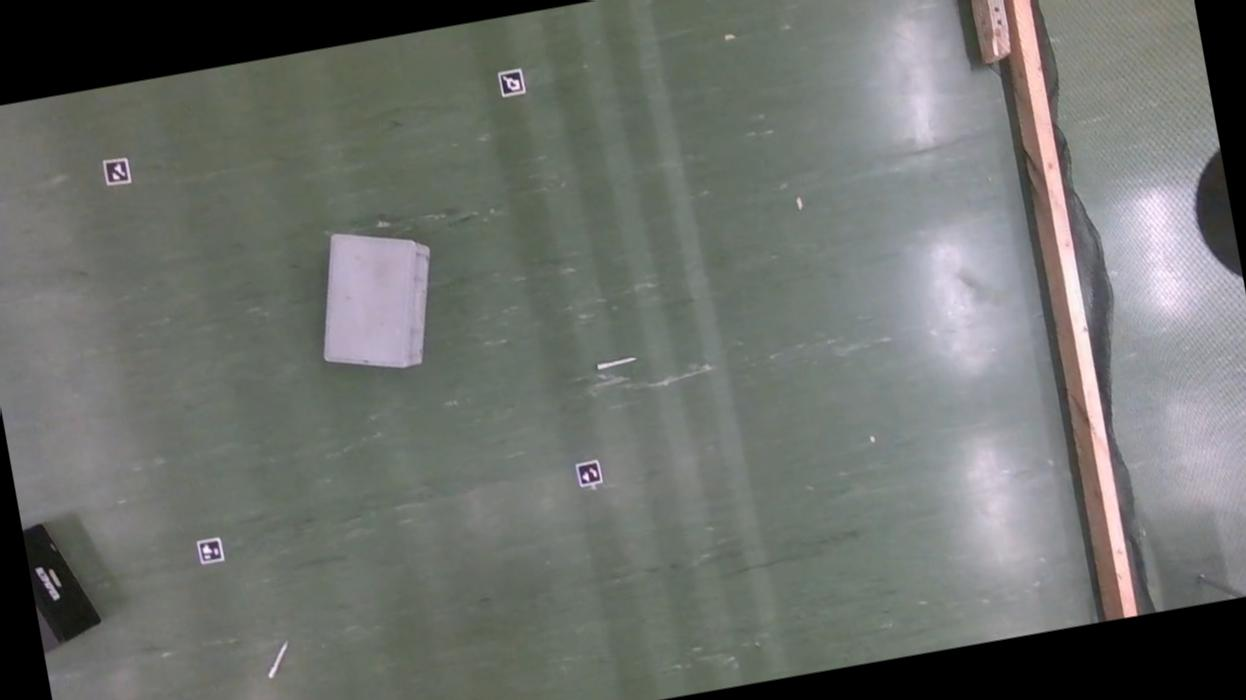probes: (595, 348, 650, 377), (266, 642, 290, 678)
rako: (303, 217, 451, 383), (21, 516, 106, 657)
